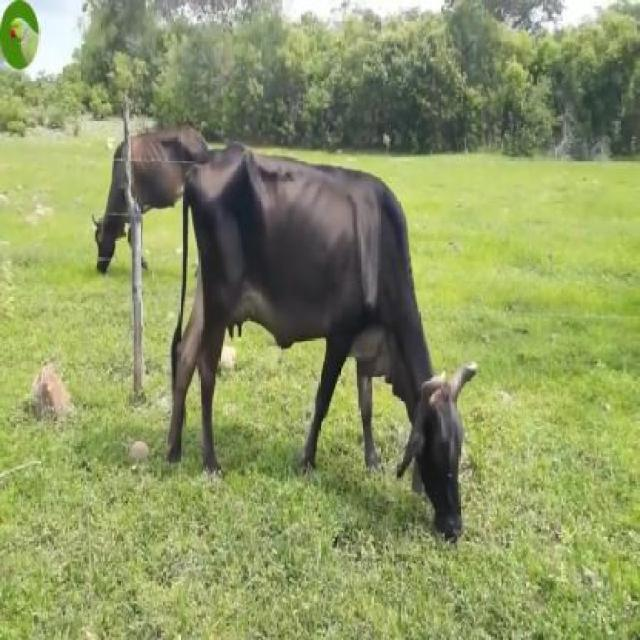Cow: (174, 142, 469, 543)
